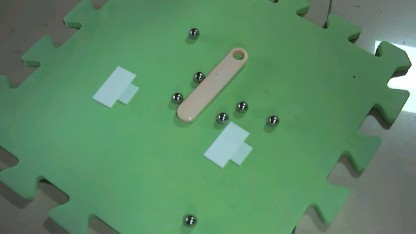ironball: (183, 23, 203, 44), (176, 211, 199, 227), (263, 112, 283, 129), (233, 97, 251, 115), (192, 69, 208, 86), (169, 91, 184, 107), (214, 110, 228, 123)
